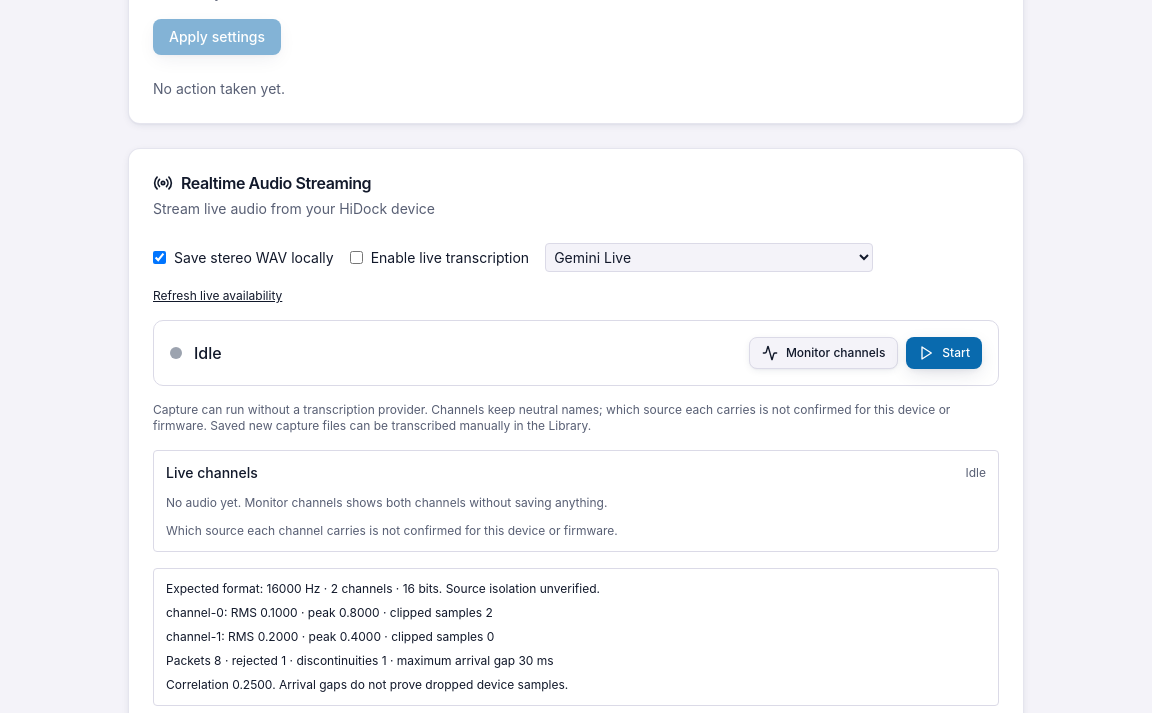
Test: Device capture controls › does not send an extra stop on unmount after the explicit stop button
(page scrolled)
Expected: the text "channel-0: RMS 0.1000 · peak 0.8000 · clipped samples 2" is shown, top-left (166, 605), bottom-right (493, 620)
What coordinates should you click on to do the following:
click the button "Start"
I would click on:
 (944, 353)
Its box is top-left (906, 337), bottom-right (982, 369).
(page scrolled)
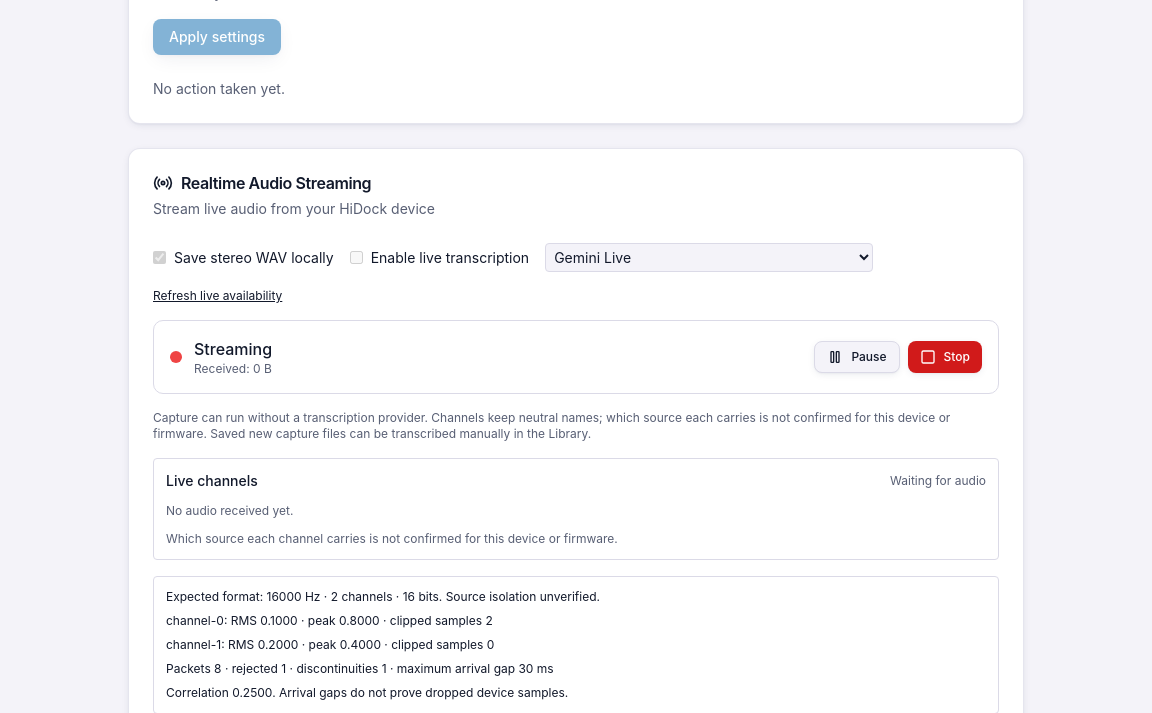
What coordinates should you click on to do the following:
click the button "Stop"
I would click on:
 (945, 357)
Its box is top-left (908, 341), bottom-right (982, 373).
(page scrolled)
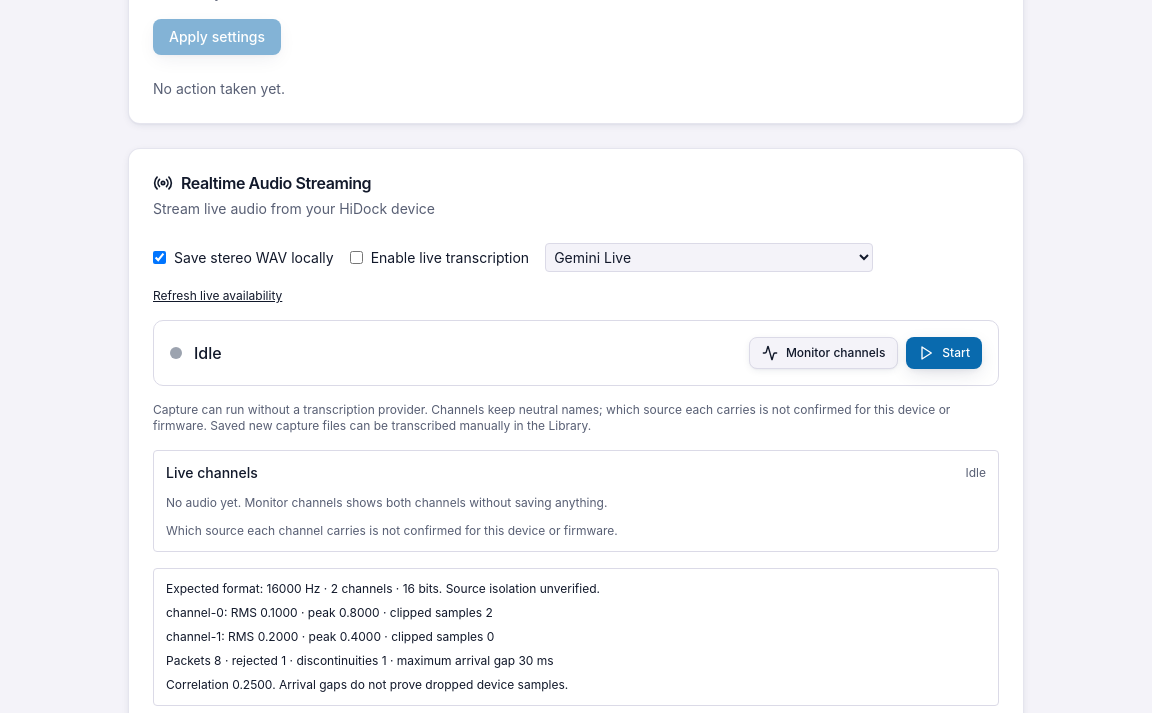
Result: the button "Start" is shown at top-left (906, 337), bottom-right (982, 369)
